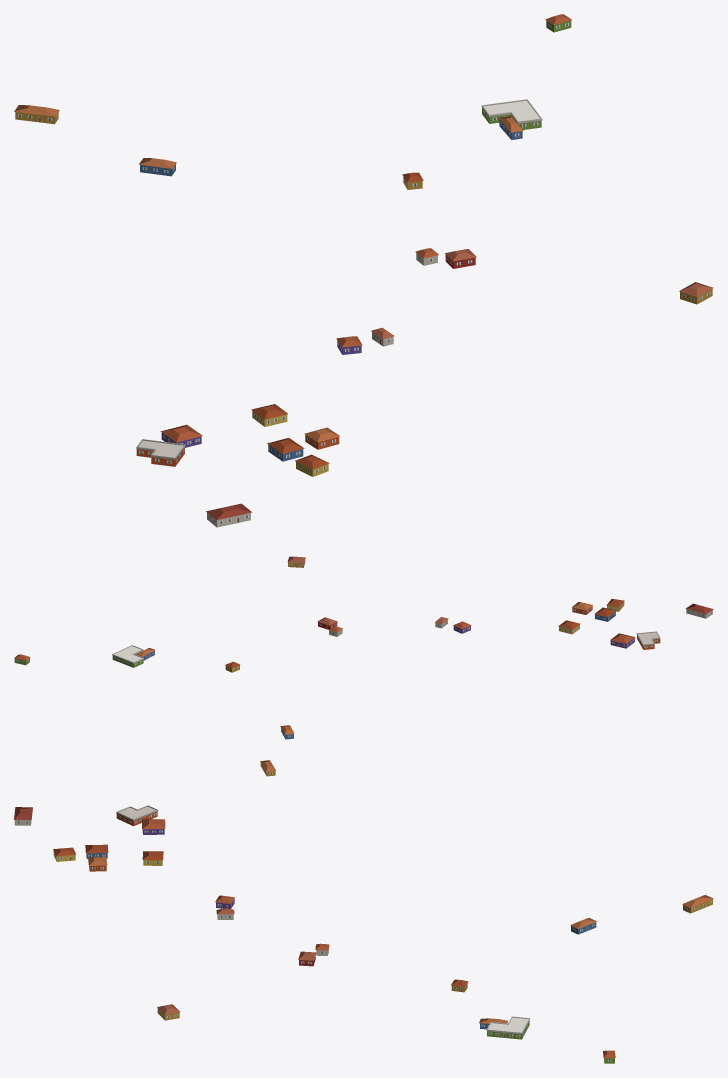
Rendered from msb_noord_m17_m16.glb.
The picture shows the model from 3 angles, top to bottom: view 1: azimuth 30°, elevation 25°; view 2: azimuth 150°, elevation 25°; view 3: azimuth 270°, elevation 25°; orthographic projection. The views are drawn at different scales.
Parts seen in each view (by area): view 1: msb_noord_m17_m16_lod0; view 2: msb_noord_m17_m16_lod0; view 3: msb_noord_m17_m16_lod0.
Part boxes in pixels (x1,y1,x2,y2): msb_noord_m17_m16_lod0: (14, 14, 713, 527); msb_noord_m17_m16_lod0: (14, 556, 713, 776); msb_noord_m17_m16_lod0: (14, 805, 713, 1063).
Size of what is drawn, in the model's own units: 344 by 18.21 by 372.
3 materials, 1 textured.
